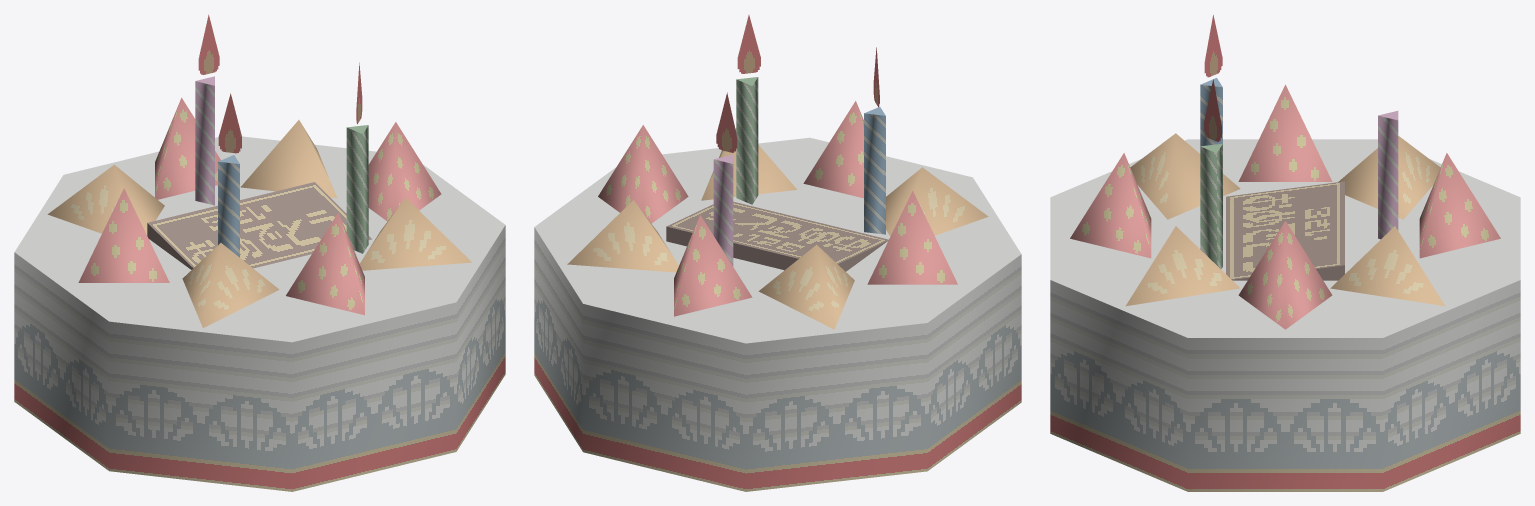
File: 03c3_Birthday_Cake.glb
3 views of the same model, side by side, from view 1: azimuth 30°, elevation 25°; view 2: azimuth 150°, elevation 25°; view 3: azimuth 270°, elevation 25° (orthographic). The views are drawn at different scales.
Parts seen in each view (by area): view 1: part_0; view 2: part_0; view 3: part_0.
Part boxes in pixels (bbox=[...]): part_0: bbox=[14, 14, 505, 491]; part_0: bbox=[534, 15, 1021, 491]; part_0: bbox=[1050, 15, 1520, 491].
Bounding box in the file's own units: 0.3603 × 0.2925 × 0.3603.
1 material, 1 textured.
